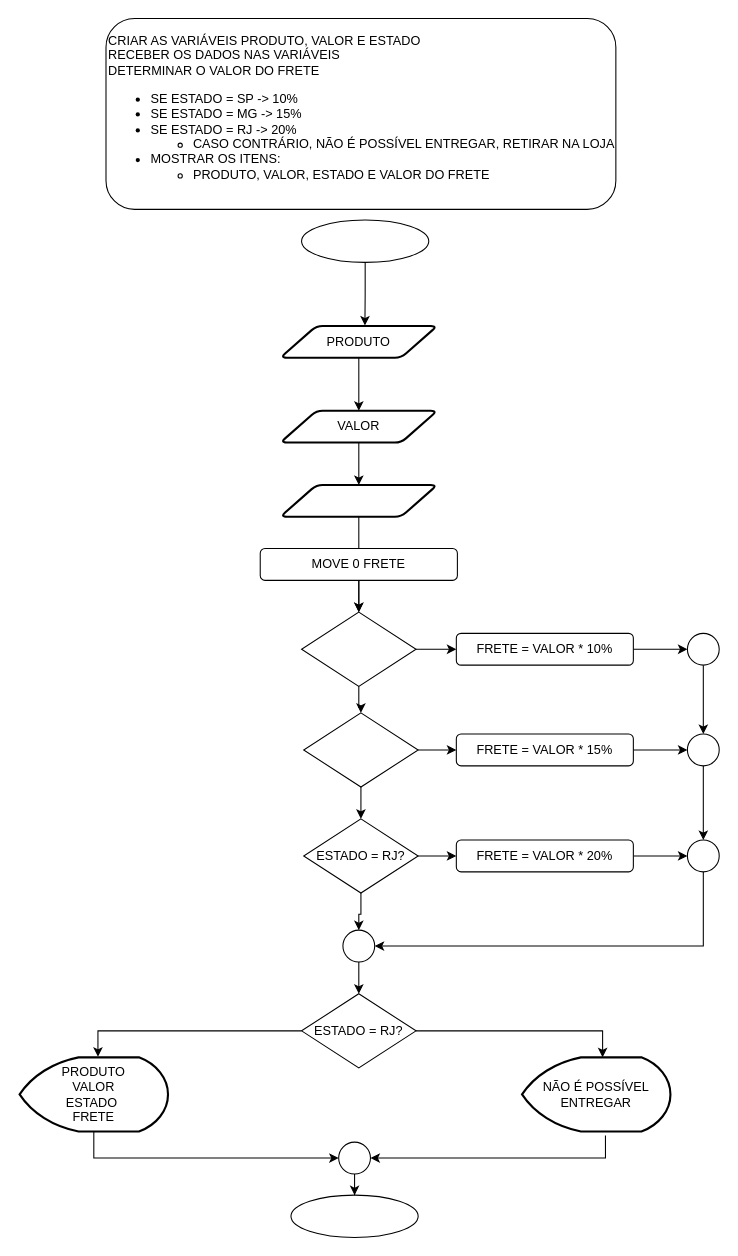
This 738x1256 diagram has some shape labels left out. The centre of each missing label's shape, as x and y in pixels:
ESTADO: the point at 358,500
ESTADO = MG?: the point at 360,749
ESTADO = SP?: the point at 358,648
FIM: the point at 354,1216
INÍCIO: the point at 365,240
